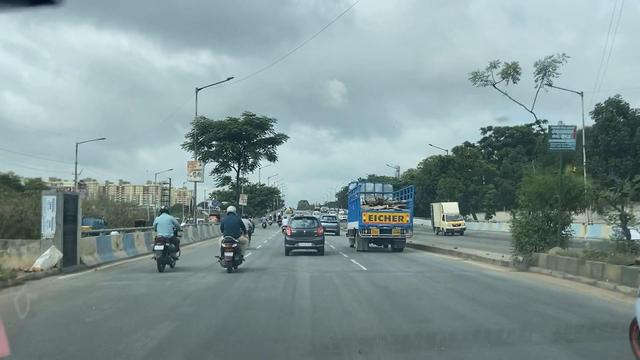HMV: (347, 182, 409, 245)
LMV: (148, 202, 185, 276), (218, 199, 250, 276), (283, 214, 323, 259)
